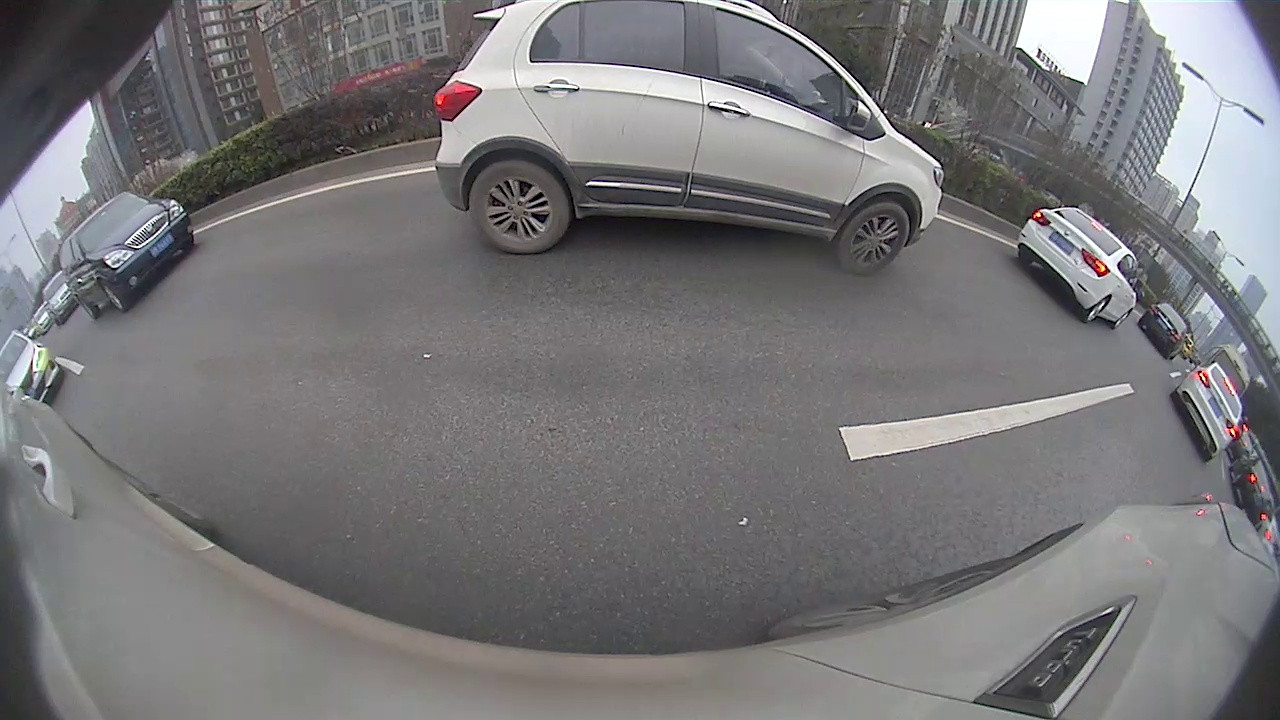car: (433, 1, 948, 275), (57, 191, 195, 322), (1015, 207, 1143, 335), (1171, 361, 1246, 462), (1137, 301, 1189, 359)
front: (841, 202, 914, 272)
rear: (472, 164, 568, 256), (1084, 296, 1111, 324)
